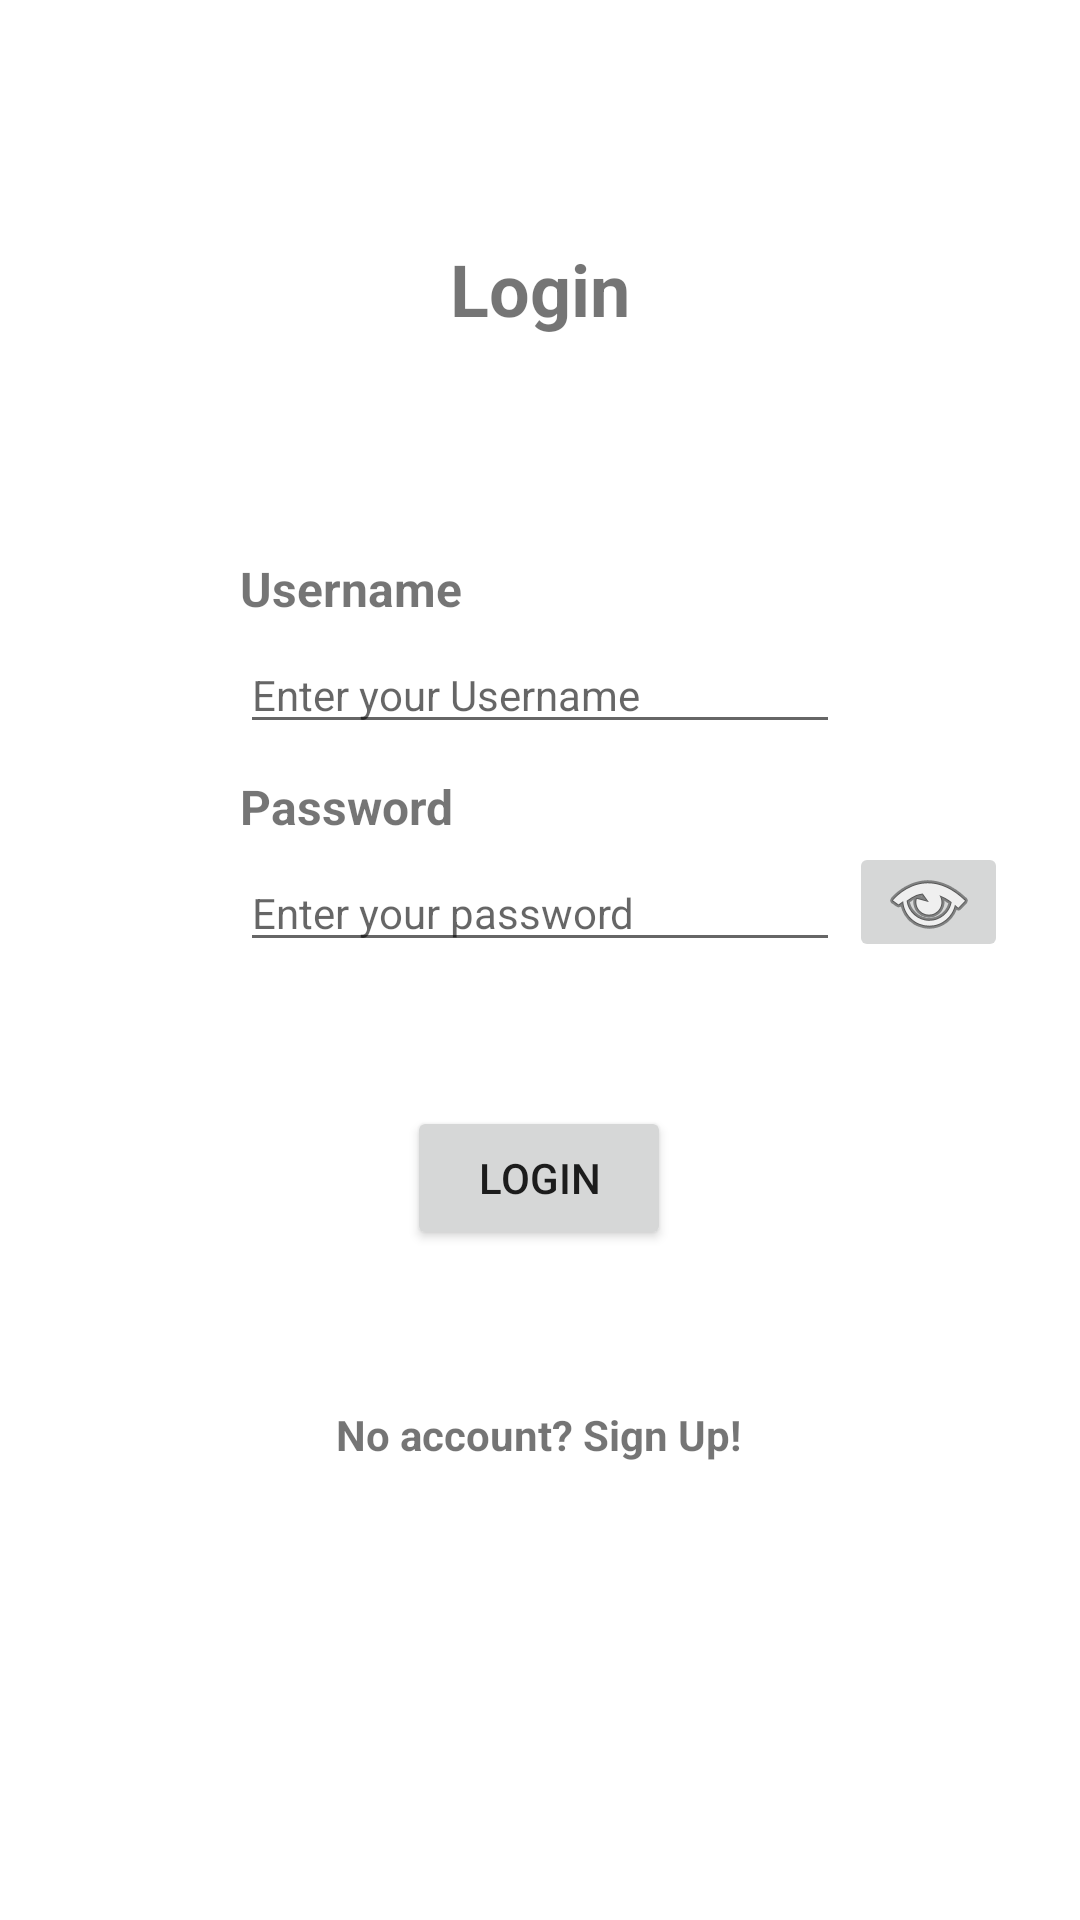

Named icons in this screenshot (1080x1920) and their bounding boxes, box=[x1, y1, x2, y2]:
view: box=[861, 860, 996, 944]
